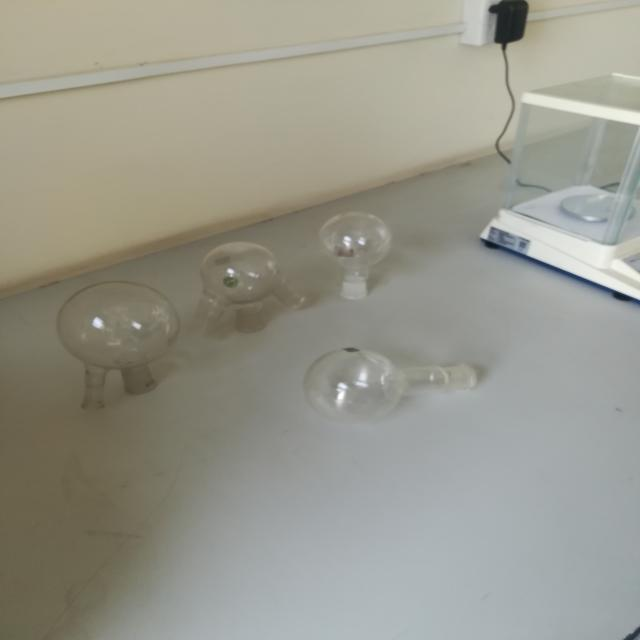Round_Bottom_Flask_Borosilicate_Glass_1_Neck: (282, 329, 504, 438), (312, 183, 420, 310)
Round_Bottom_Flask_Borosilicate_Glass_2_Neck: (32, 258, 190, 434)
Round_Bottom_Flask_Borosilicate_Glass_3_Neck: (173, 222, 318, 348)
